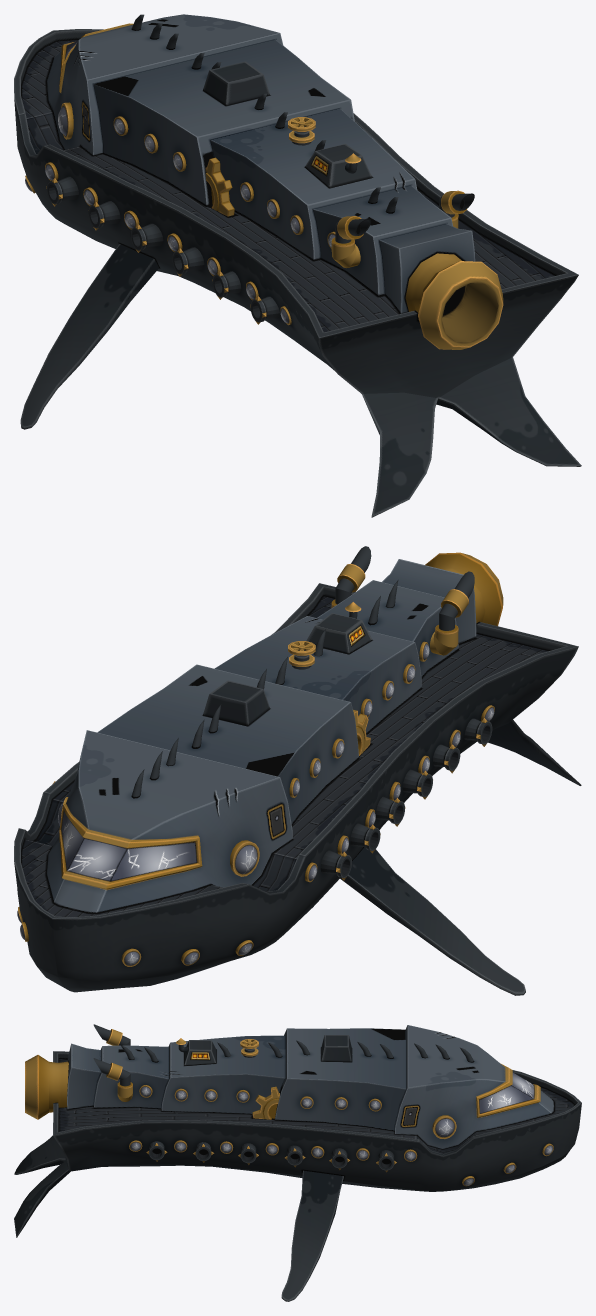
Rendered from boss_ship.fbx.
3 views of the same model, one above another, from view 1: azimuth 30°, elevation 25°; view 2: azimuth 150°, elevation 25°; view 3: azimuth 270°, elevation 25° (orthographic). The views are drawn at different scales.
Visible parts, largest first — view 1: Boss_main_part, Left_cogwheel, cannon_v3_9, cannon_v3_7, cannon_v3_8, cannon_v3_10; view 2: Boss_main_part, cannon_v3_7, cannon_v3_8, cannon_v3_10, cannon_v3_9, cannon_v3_12, cannon_v3_11; view 3: Boss_main_part, Right_cogwheel.
Part boxes in pixels (bbox=[...]): Boss_main_part: bbox=[14, 14, 581, 517]; Left_cogwheel: bbox=[205, 157, 234, 216]; cannon_v3_9: bbox=[130, 223, 163, 252]; cannon_v3_7: bbox=[46, 176, 78, 206]; cannon_v3_8: bbox=[88, 201, 120, 230]; cannon_v3_10: bbox=[172, 247, 204, 276]; Boss_main_part: bbox=[14, 546, 581, 995]; cannon_v3_7: bbox=[320, 850, 351, 880]; cannon_v3_8: bbox=[350, 823, 380, 853]; cannon_v3_10: bbox=[402, 769, 432, 799]; cannon_v3_9: bbox=[375, 796, 405, 826]; cannon_v3_12: bbox=[464, 718, 492, 746]; cannon_v3_11: bbox=[433, 744, 460, 773]; Boss_main_part: bbox=[14, 1024, 581, 1301]; Right_cogwheel: bbox=[252, 1086, 279, 1119].
Size of the model in its own units: 77 by 39.98 by 113.
